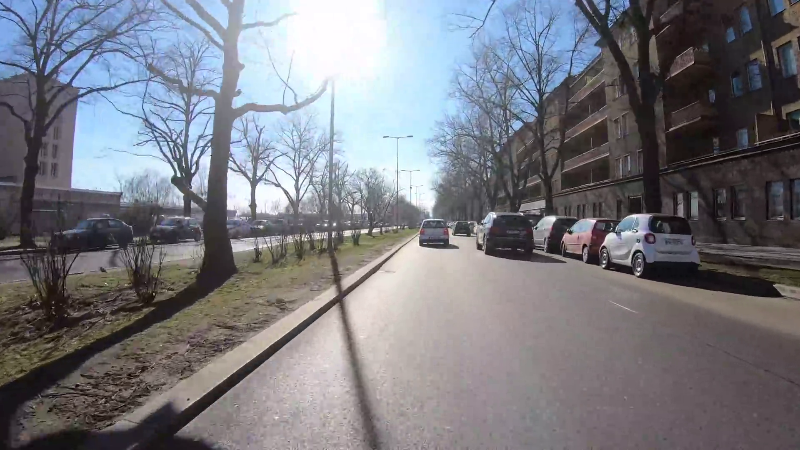Plate: (663, 236, 687, 247), (504, 228, 521, 235)
